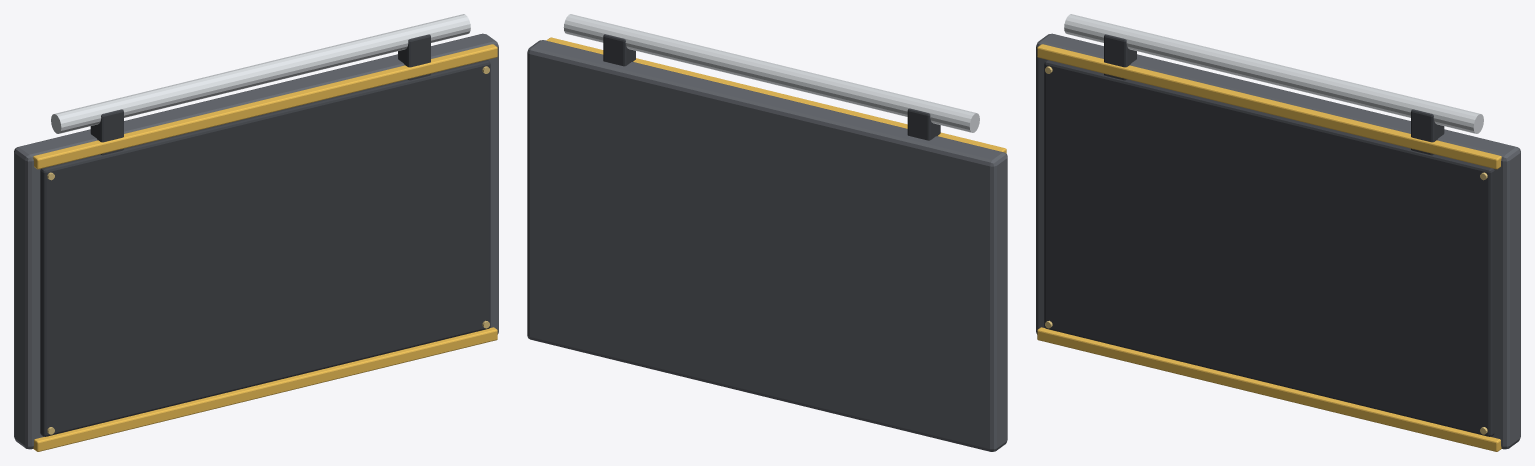
File: drop_down_terminal.glb
The picture shows the model from 3 angles, left to right: view 1: azimuth 30°, elevation 25°; view 2: azimuth 150°, elevation 25°; view 3: azimuth 330°, elevation 25°; orthographic projection.
Visible parts, largest first — view 1: TermBezel, TermChassis, HingeRod, TermHazardTop, TermHazardBot, HingeArm_-0.24, HingeArm_0.24; view 2: TermChassis, HingeRod, TermHazardTop, HingeArm_-0.24, HingeArm_0.24; view 3: TermBezel, TermChassis, HingeRod, TermHazardTop, TermHazardBot, HingeArm_0.24, HingeArm_-0.24.
Boxes of the visible parts, x1,y1,x2,y2 form: TermBezel: (40, 60, 490, 436); TermChassis: (14, 33, 498, 449); HingeRod: (51, 14, 470, 133); TermHazardTop: (33, 44, 497, 169); TermHazardBot: (33, 327, 497, 451); HingeArm_-0.24: (90, 109, 123, 155); HingeArm_0.24: (398, 34, 430, 80); TermChassis: (527, 40, 1007, 451); HingeRod: (563, 14, 979, 132); TermHazardTop: (546, 37, 1006, 153); HingeArm_-0.24: (907, 108, 940, 140); HingeArm_0.24: (603, 34, 635, 66); TermBezel: (1044, 60, 1494, 436); TermChassis: (1036, 33, 1520, 449); HingeRod: (1064, 14, 1483, 133); TermHazardTop: (1037, 44, 1501, 169); TermHazardBot: (1037, 327, 1501, 451); HingeArm_0.24: (1411, 109, 1444, 155); HingeArm_-0.24: (1104, 34, 1136, 80).
Size of the model in its own units: 0.74 by 0.489 by 0.056.
